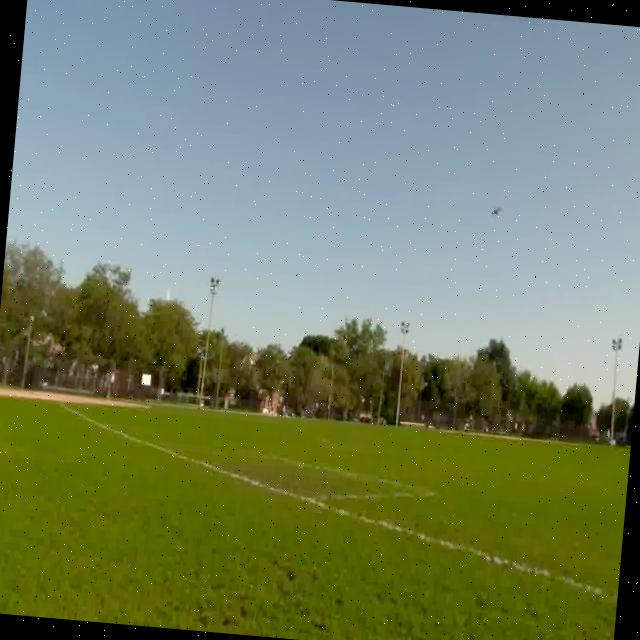drone: (483, 196, 506, 222)
